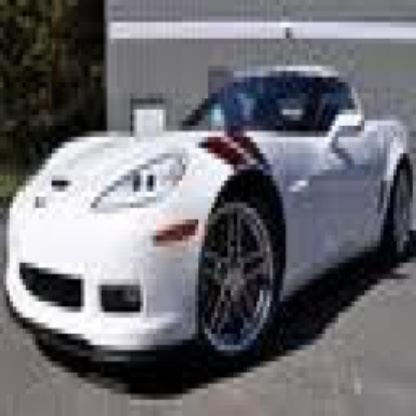Vehicle: (9, 60, 412, 389)
